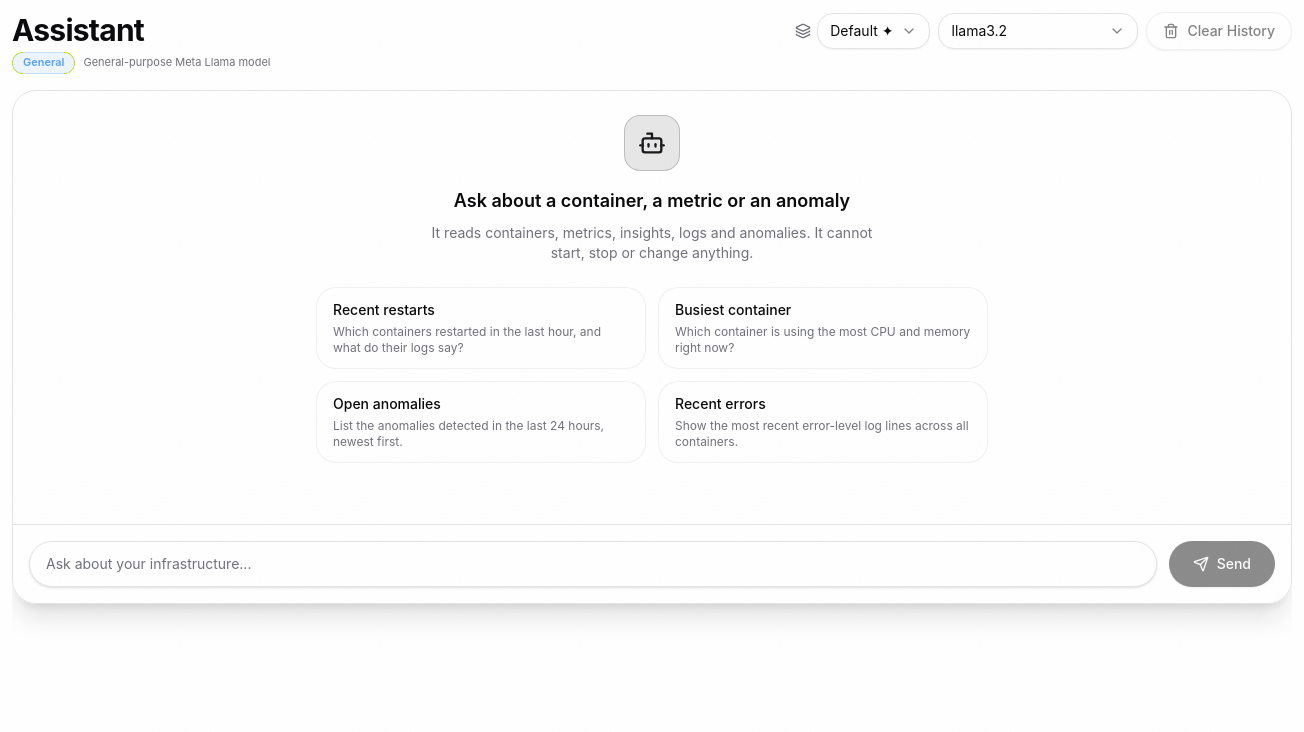
LLM Profile Selector › renders profile selector for admin users
// Open the profile selector (first combobox)
Click the dropdown labelled "Default ✦" at (874,31), box [817,13,930,49]
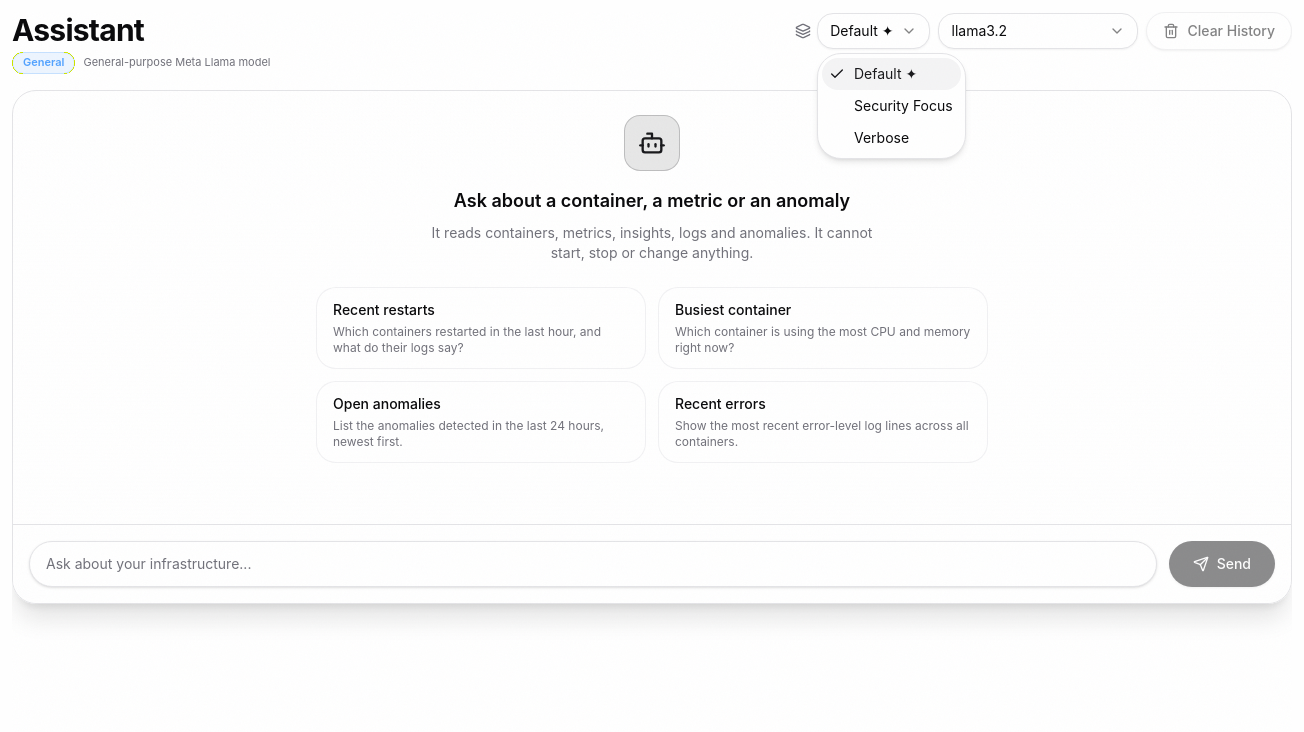
Now the option "Default ✦" is shown, box [822,58,961,90]
Now the option "Security Focus" is shown, box [854,97,953,114]
Now the option "Verbose" is shown, box [854,129,909,146]
